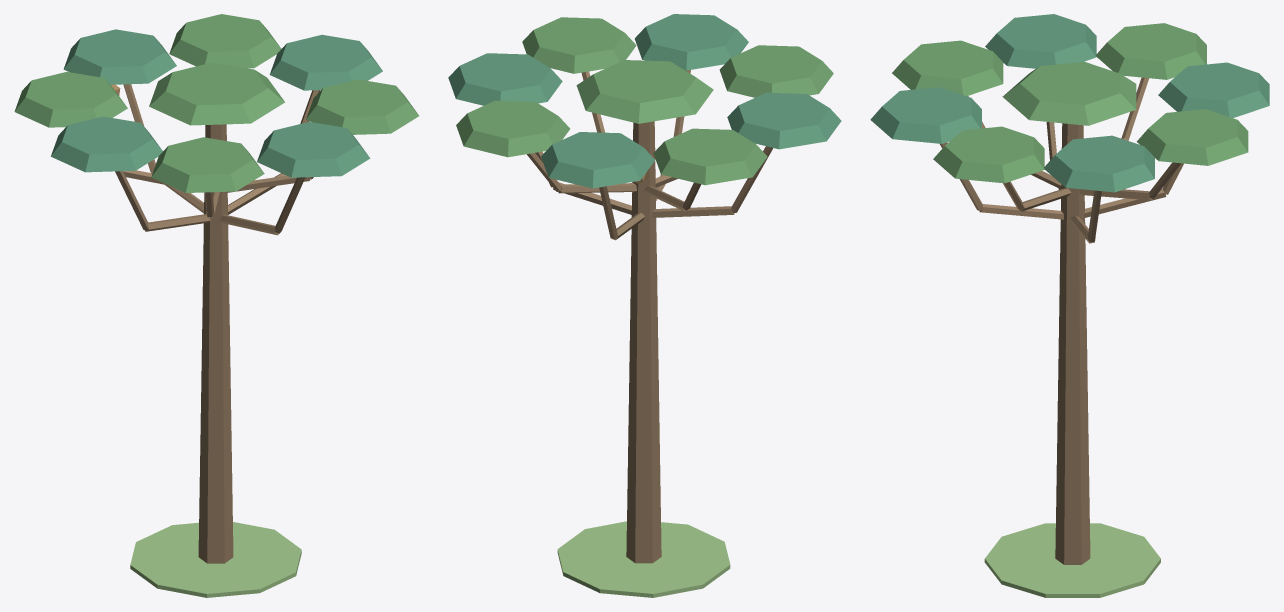
Rendered from vegetacao__araucaria.glb.
The picture shows the model from 3 angles, left to right: view 1: azimuth 30°, elevation 25°; view 2: azimuth 150°, elevation 25°; view 3: azimuth 270°, elevation 25°; orthographic projection.
Parts seen in each view (by area): view 1: vegetacao__araucaria; view 2: vegetacao__araucaria; view 3: vegetacao__araucaria.
Boxes of the visible parts, box(x1,y1,x2,y2) form: vegetacao__araucaria: box(14, 14, 418, 597); vegetacao__araucaria: box(448, 14, 841, 597); vegetacao__araucaria: box(870, 14, 1269, 597).
Size of the model in its own units: 1.37 by 1.8 by 1.36.
